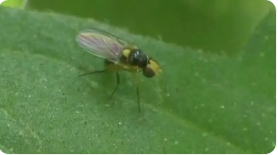liriomyza: (72, 28, 163, 112)
